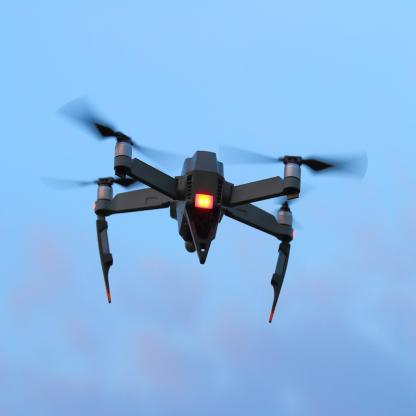drone: (59, 90, 340, 336)
